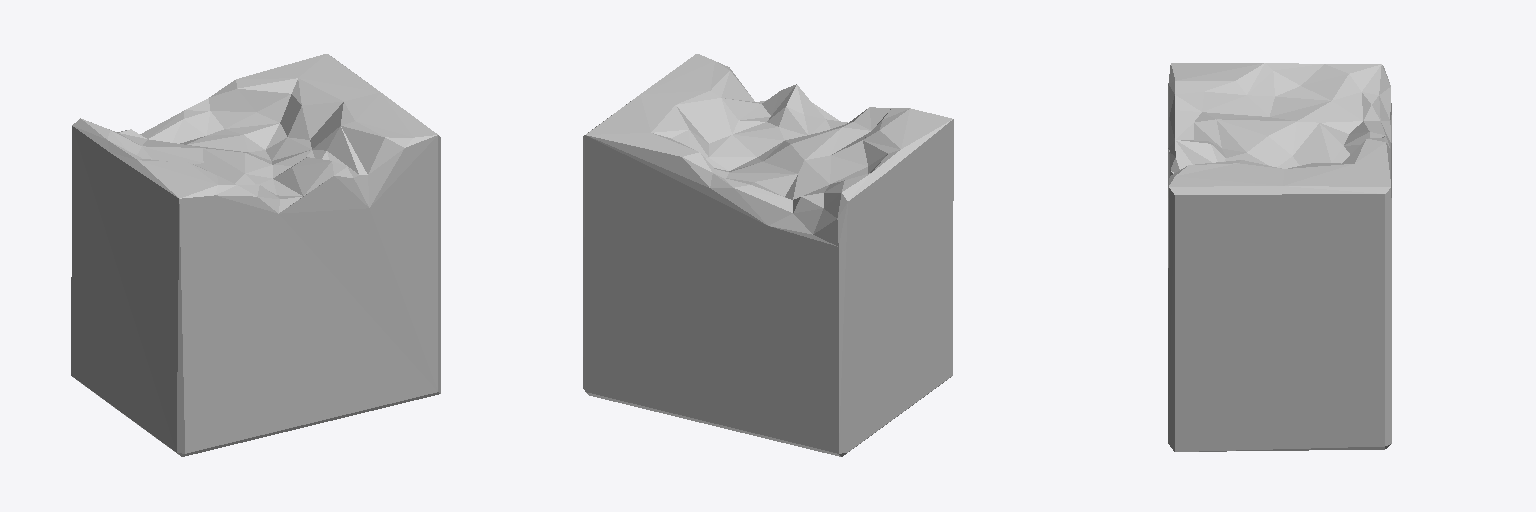
3 views of the same model, side by side, from view 1: azimuth 30°, elevation 25°; view 2: azimuth 150°, elevation 25°; view 3: azimuth 270°, elevation 25° (orthographic).
Parts seen in each view (by area): view 1: Liquid_Domain; view 2: Liquid_Domain; view 3: Liquid_Domain.
Part boxes in pixels (x1,y1,x2,y2): Liquid_Domain: (71,54,440,456); Liquid_Domain: (583,54,953,456); Liquid_Domain: (1168,63,1391,451).
Size of the model in its own units: 16.97 by 16.19 by 12.44.